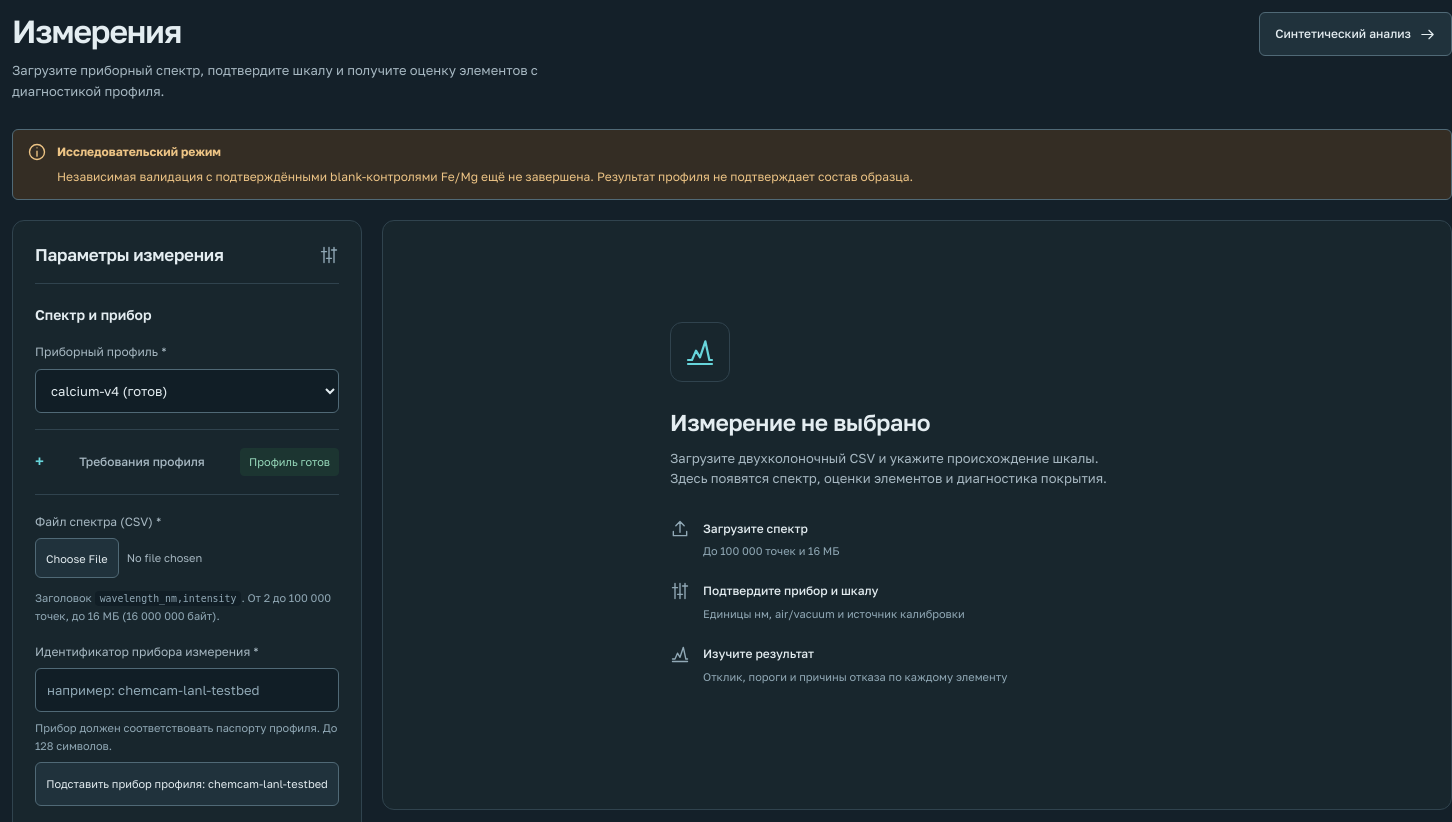
Test: Measured page scenarios › does NOT silently fill instrument_id from profile without user confirmation
Expected: the field with placeholder "например: chemcam-lanl-testbed" is empty, [35, 668, 339, 712]
Click the button "Подставить прибор профиля: chemcam-lanl-testbed" at (187, 784), box [35, 762, 339, 806]
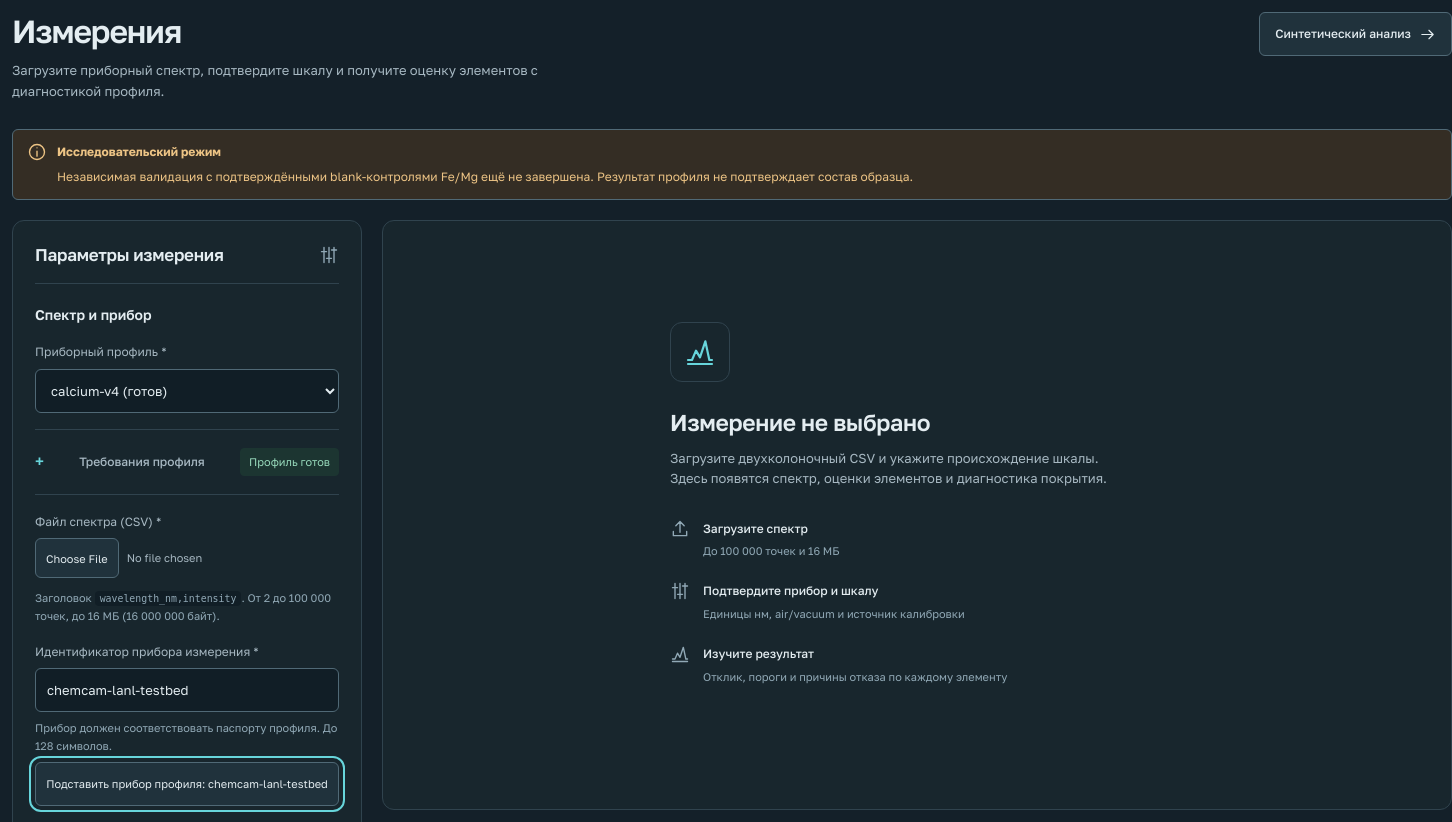
Expected: the field with placeholder "например: chemcam-lanl-testbed" holds "chemcam-lanl-testbed", [35, 668, 339, 712]
